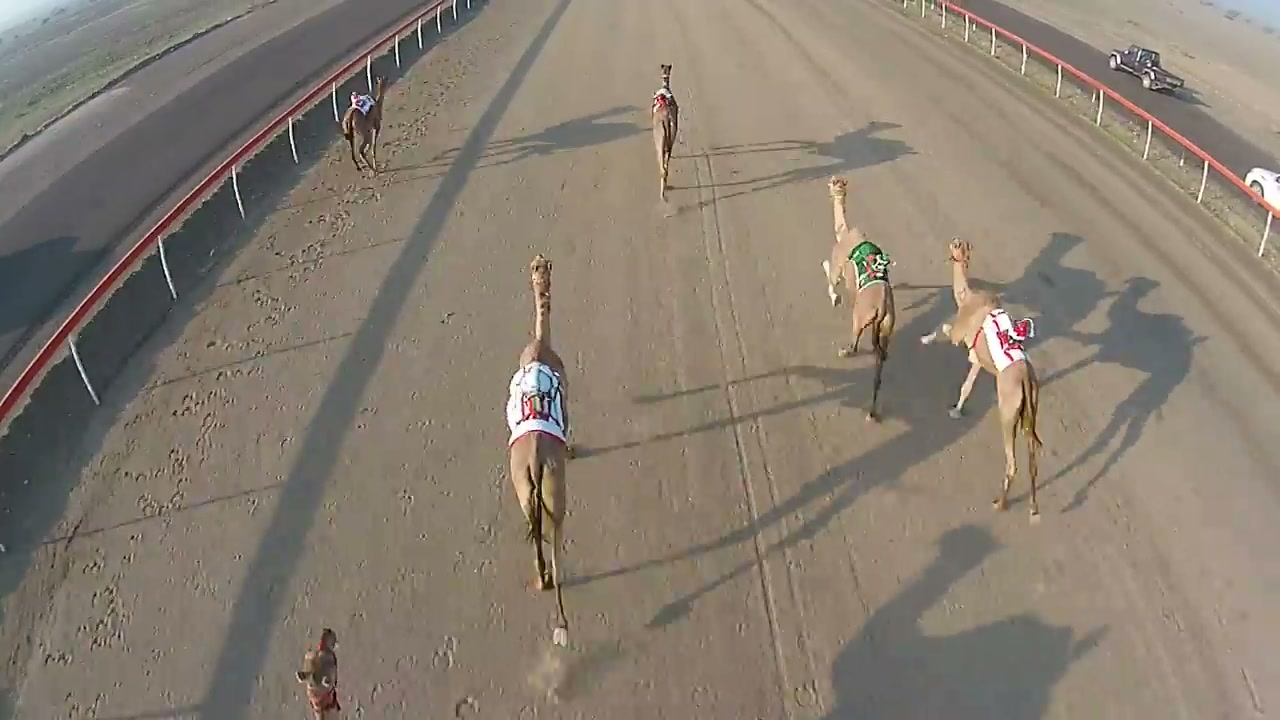animal_foot_print: (33, 168, 391, 689)
